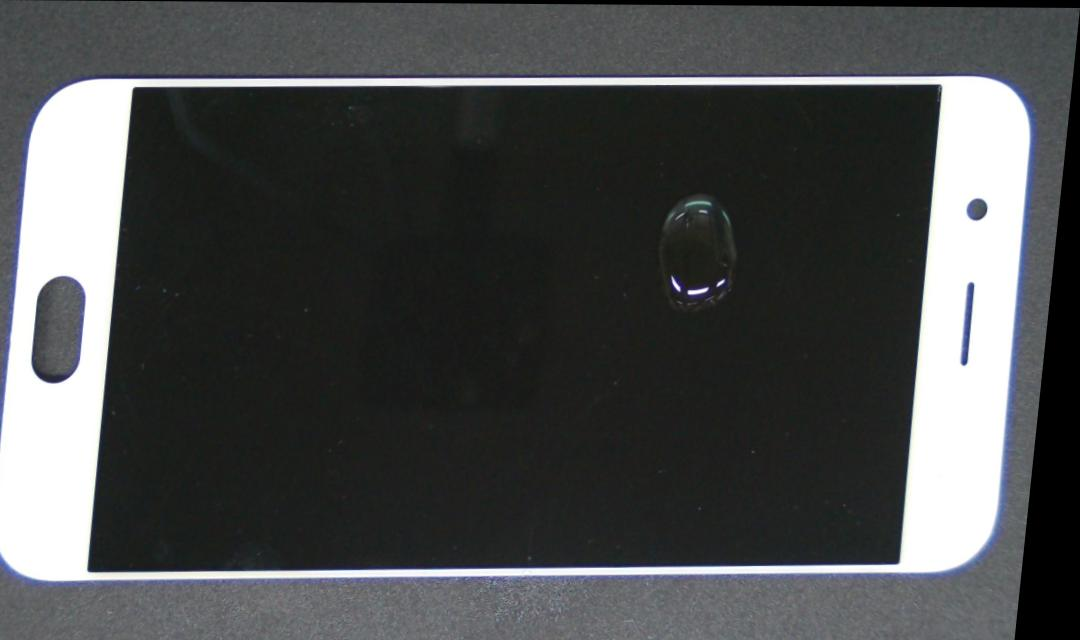oil: (625, 167, 762, 347)
